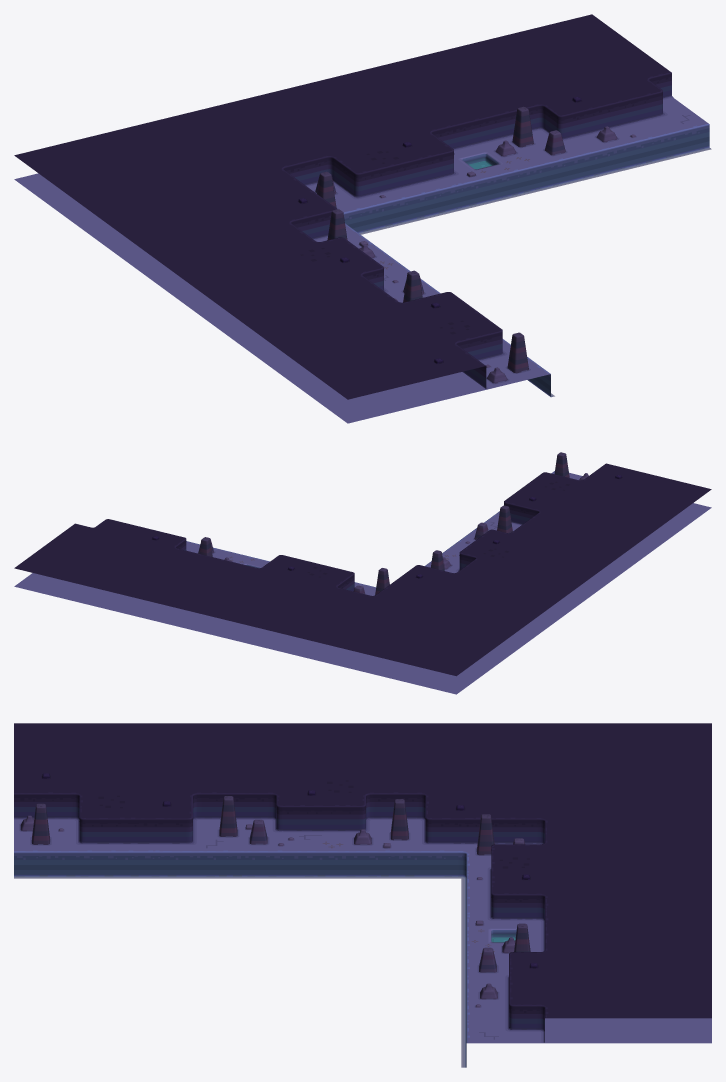
File: C_cave1_out_RD.fbx
3 renders of one model, top to bottom at view 1: azimuth 30°, elevation 25°; view 2: azimuth 150°, elevation 25°; view 3: azimuth 270°, elevation 25°, orthographic. The views are drawn at different scales.
Visible parts, largest first — view 1: C_cave1_out_RD; view 2: C_cave1_out_RD; view 3: C_cave1_out_RD.
Part boxes in pixels (left/top/right/bottom): C_cave1_out_RD: left=14, top=14, right=711, bottom=423; C_cave1_out_RD: left=14, top=452, right=711, bottom=694; C_cave1_out_RD: left=14, top=723, right=711, bottom=1067.
Bounding box in the file's own units: 117 × 11.26 × 117.
